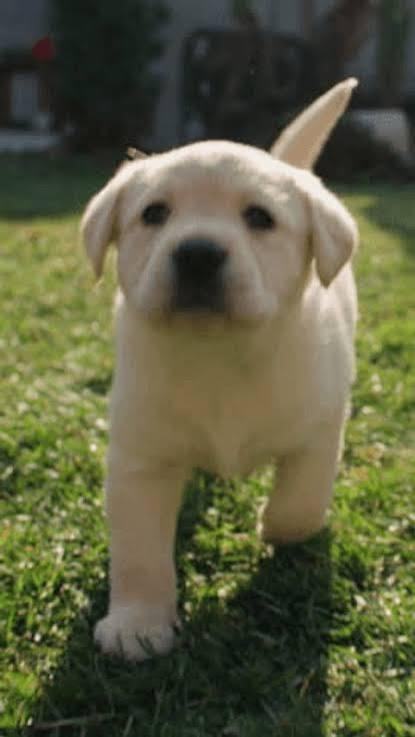puppy-dog: (78, 76, 362, 663)
